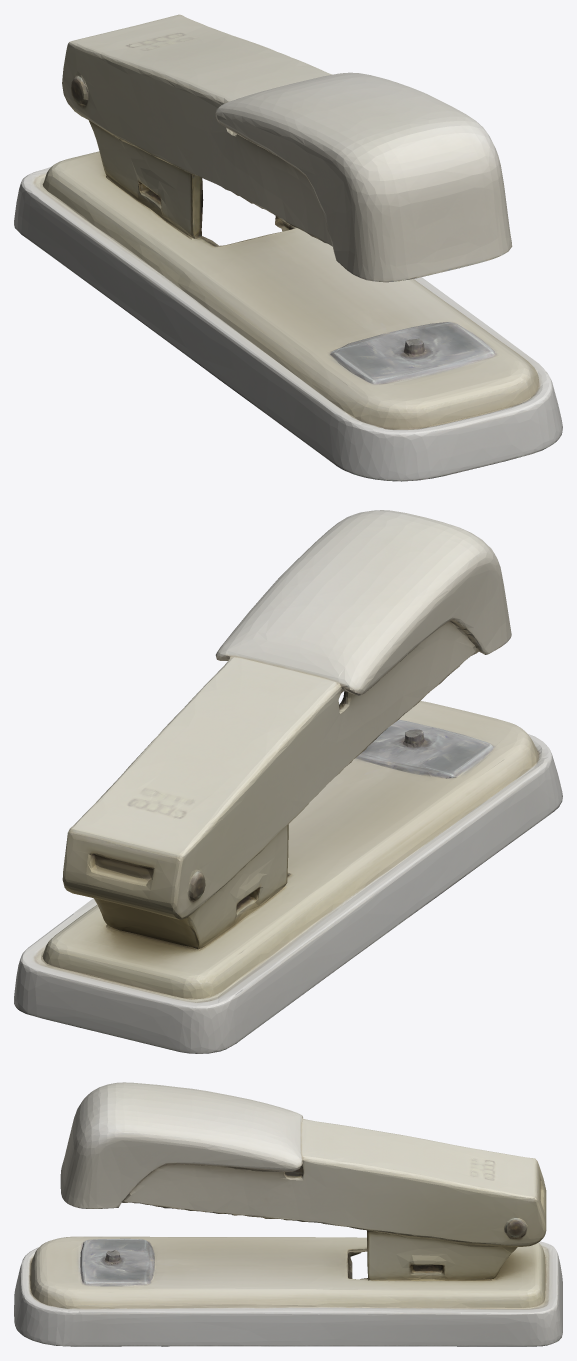
3 renders of one model, top to bottom at view 1: azimuth 30°, elevation 25°; view 2: azimuth 150°, elevation 25°; view 3: azimuth 270°, elevation 25°, orthographic. The views are drawn at different scales.
Visible parts, largest first — view 1: world; view 2: world; view 3: world.
Boxes of the visible parts, left/top/right/bottom form: world: left=14, top=14, right=562, bottom=481; world: left=14, top=510, right=562, bottom=1053; world: left=14, top=1082, right=562, bottom=1346.
Size of the model in its own units: 0.3339 by 0.4242 by 0.9993.
Materials: 1 (1 with a texture image).
